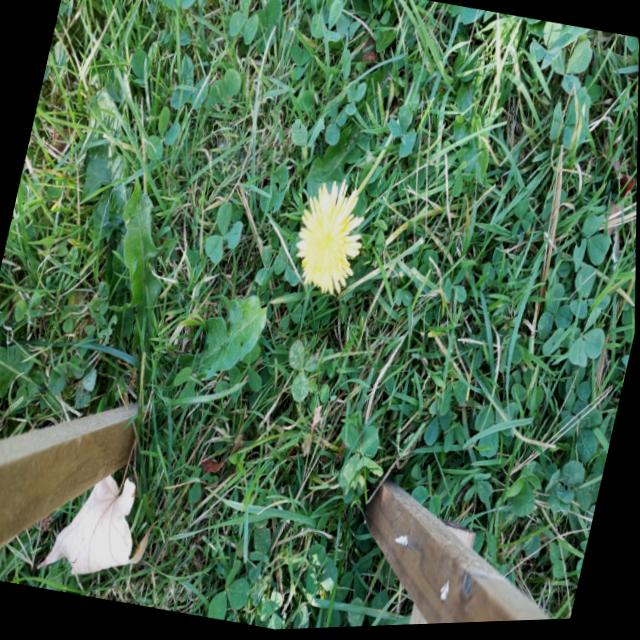base: (392, 99, 413, 132)
flower: (286, 175, 372, 303)
